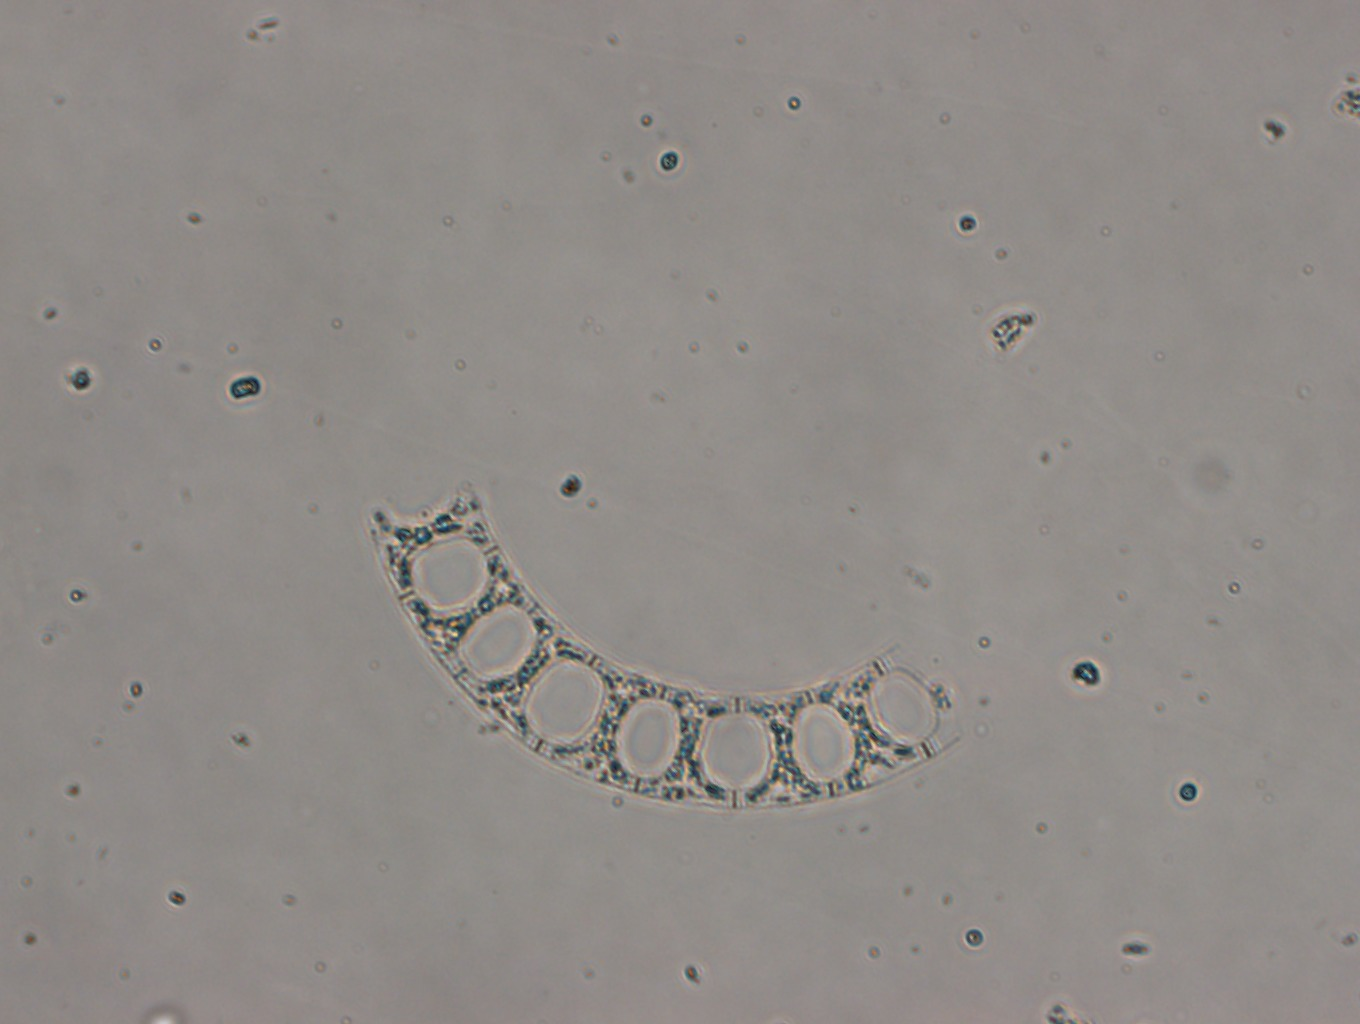eucampia: (366, 481, 968, 811)
